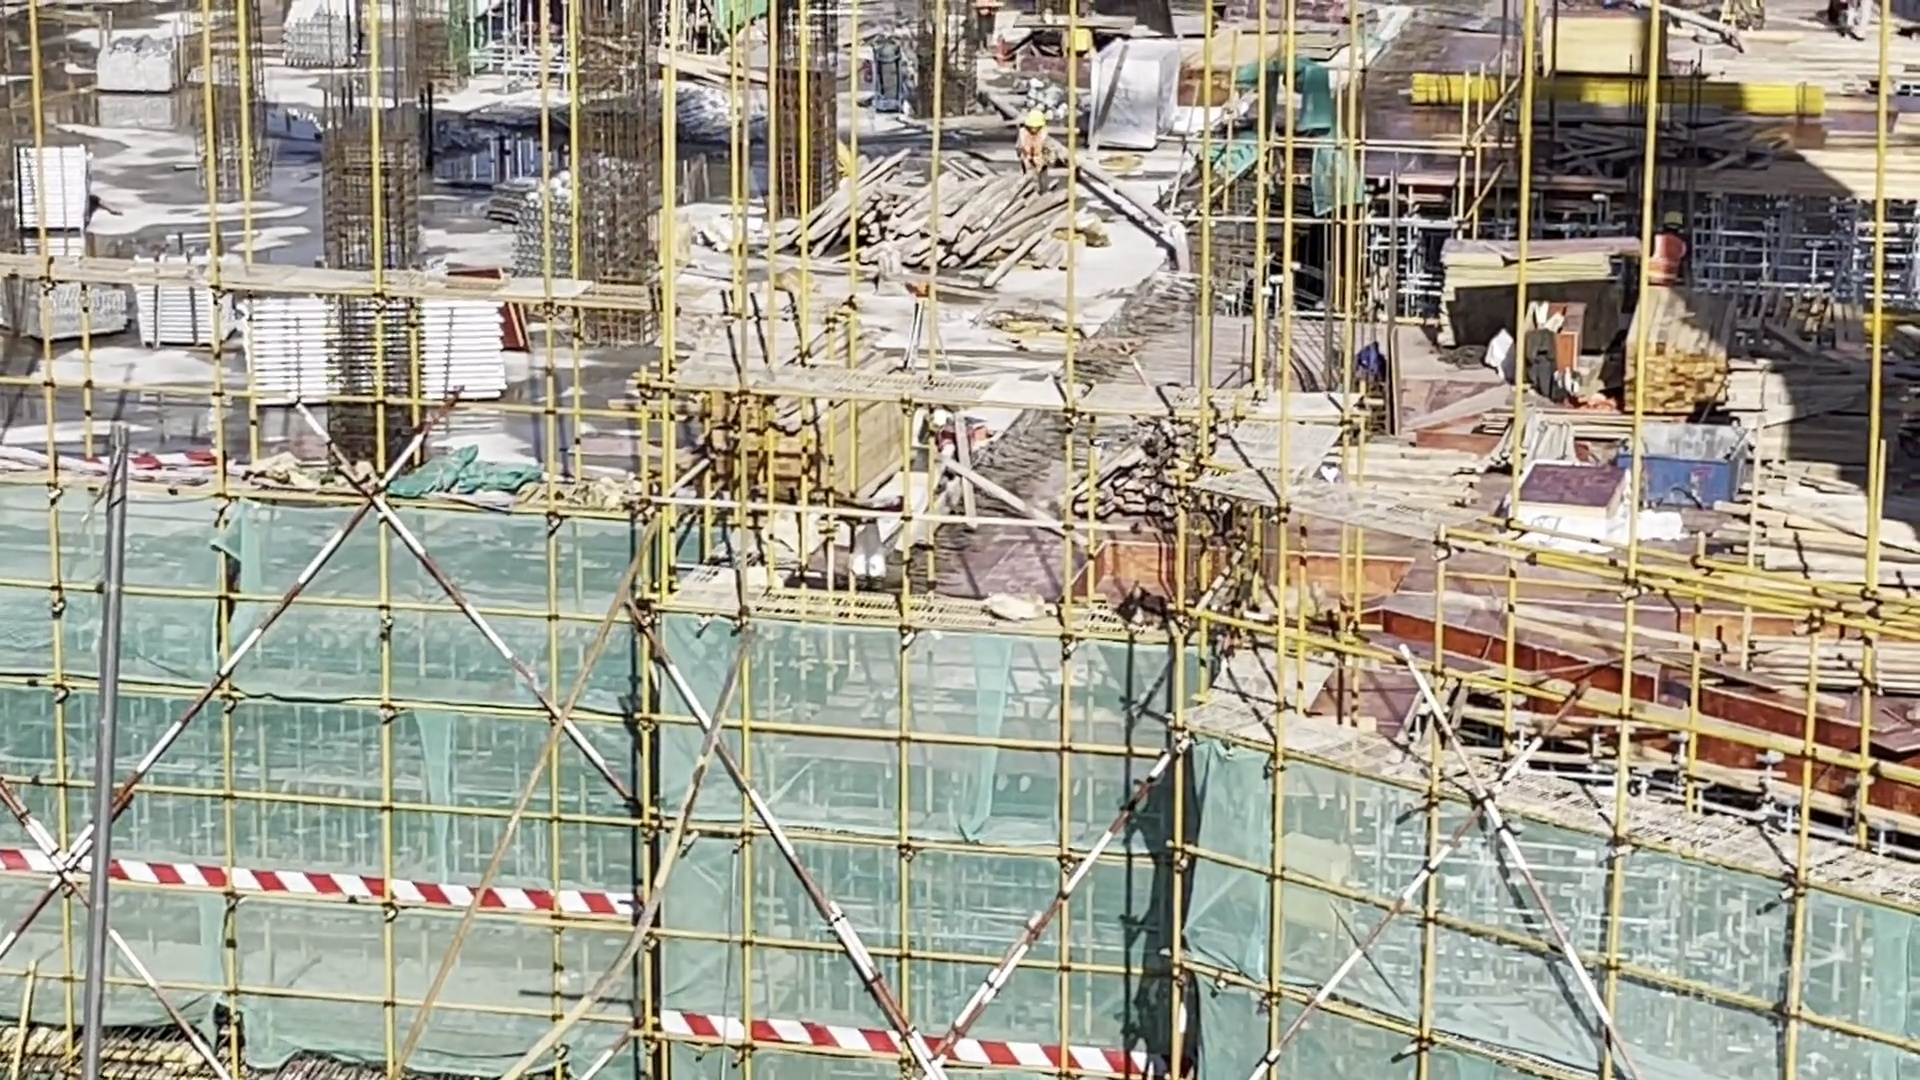helmet: (927, 409, 952, 434), (1019, 107, 1044, 122)
hopper: (1613, 423, 1762, 511)
person: (914, 406, 995, 468), (1013, 117, 1054, 182)
scaffold: (223, 294, 528, 413), (144, 260, 229, 331)
vest: (1018, 132, 1051, 170)
wood: (1696, 486, 1920, 717), (803, 159, 1055, 301), (681, 399, 891, 505), (1614, 276, 1736, 427)
